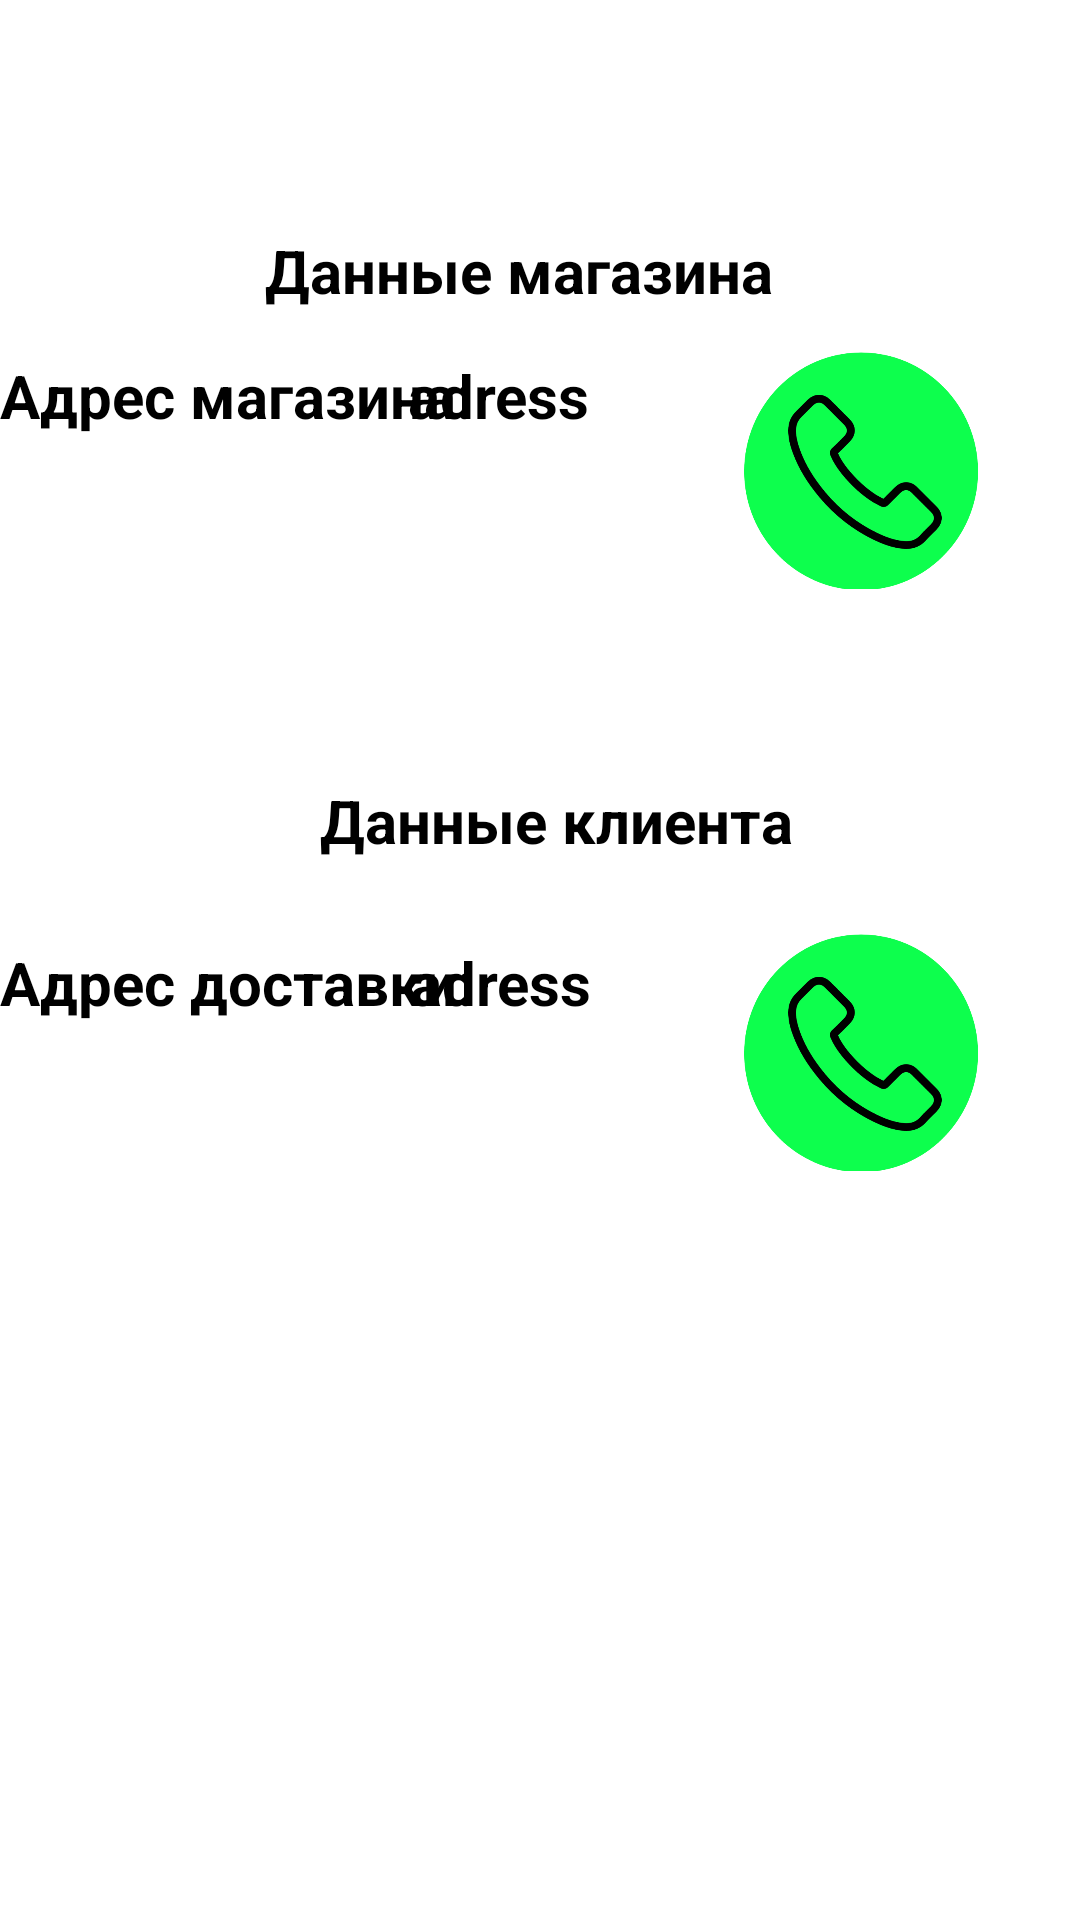

Where icons sit on this 1080 x 1920 app screen, as bbox(x1, y1, x2, y2):
tele: bbox(744, 352, 978, 589), bbox(744, 934, 978, 1171)
